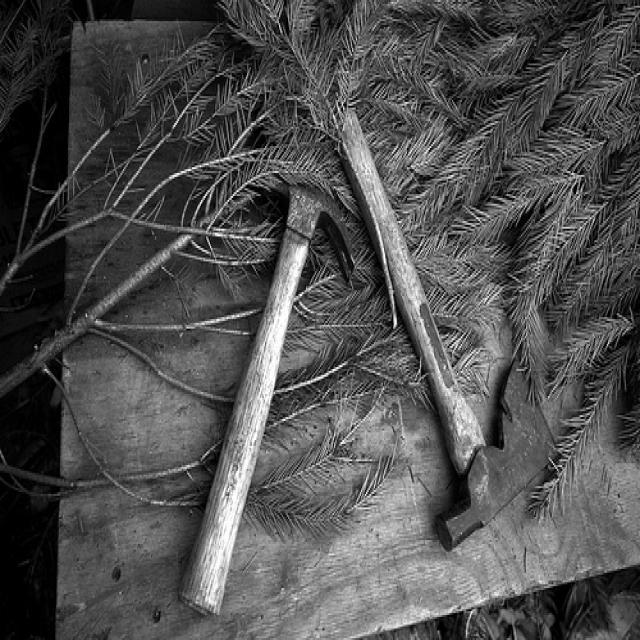hammer: (326, 90, 560, 575), (196, 164, 357, 618)
